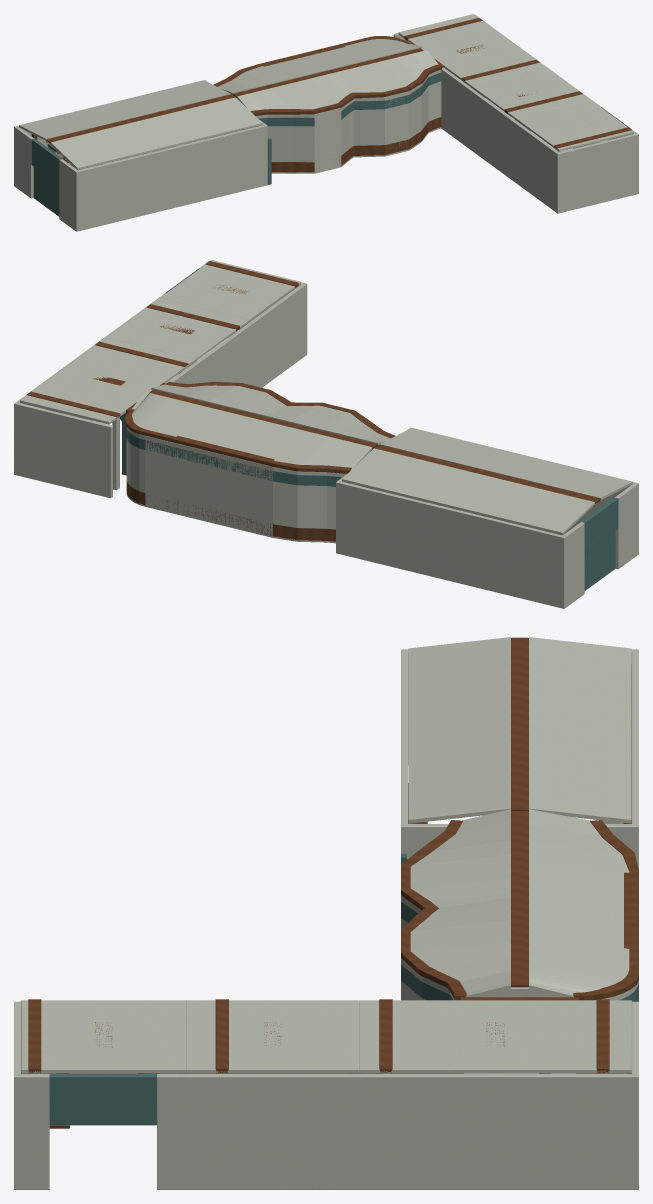
The model's file is D05_forward_welcome_architecture_008.glb.
The picture shows the model from 3 angles, top to bottom: view 1: azimuth 30°, elevation 25°; view 2: azimuth 150°, elevation 25°; view 3: azimuth 270°, elevation 25°; orthographic projection. The views are drawn at different scales.
Visible parts, largest first — view 1: SUPPORT_south_wall, WAIT_south_sculpted_enclosure, ADMISSION_inner_protected_partition, ADMISSION_ceiling_panel_2, ADMISSION_south_end, ADMISSION_ceiling_panel_0, ADMISSION_ceiling_panel_1, SUPPORT_vault_facet_0, SUPPORT_vault_facet_1, WAIT_fitted_vault_north_3, SUPPORT_vault_facet_2, WAIT_south_warm_dado (+25 smaller); view 2: SUPPORT_north_wall, WAIT_north_sculpted_enclosure, ADMISSION_north_end, ADMISSION_ceiling_panel_2, ADMISSION_inner_protected_partition, WAIT_fitted_vault_north_3, ADMISSION_ceiling_panel_1, ADMISSION_ceiling_panel_0, SUPPORT_vault_facet_6, SUPPORT_vault_facet_5, SUPPORT_vault_facet_4, SUPPORT_vault_facet_0 (+20 smaller); view 3: ADMISSION_outer_aft, ADMISSION_ceiling_panel_2, ADMISSION_ceiling_panel_1, ADMISSION_ceiling_panel_0, WAIT_fitted_vault_north_3, SUPPORT_vault_facet_0, SUPPORT_vault_facet_1, SUPPORT_vault_facet_6, SUPPORT_vault_facet_5, ADMISSION_core_interface_head, SUPPORT_vault_facet_2, SUPPORT_vault_facet_4 (+26 smaller).
Part boxes in pixels (x1,y1,x2,y2): SUPPORT_south_wall: (74, 125, 264, 231); WAIT_south_sculpted_enclosure: (255, 70, 441, 173); ADMISSION_inner_protected_partition: (441, 67, 560, 213); ADMISSION_ceiling_panel_2: (398, 14, 544, 86); ADMISSION_south_end: (556, 133, 638, 212); ADMISSION_ceiling_panel_0: (515, 100, 633, 151); ADMISSION_ceiling_panel_1: (470, 66, 589, 119); SUPPORT_vault_facet_0: (68, 114, 262, 169); SUPPORT_vault_facet_1: (58, 104, 252, 160); WAIT_fitted_vault_north_3: (261, 40, 393, 80); SUPPORT_vault_facet_2: (50, 97, 242, 150); WAIT_south_warm_dado: (271, 117, 441, 172); SUPPORT_north_wall: (338, 481, 566, 608); WAIT_north_sculpted_enclosure: (126, 427, 346, 543); ADMISSION_north_end: (14, 403, 112, 498); ADMISSION_ceiling_panel_2: (20, 337, 194, 424); ADMISSION_inner_protected_partition: (166, 283, 307, 387); WAIT_fitted_vault_north_3: (149, 400, 306, 461); ADMISSION_ceiling_panel_1: (106, 298, 248, 361); ADMISSION_ceiling_panel_0: (160, 260, 300, 321); SUPPORT_vault_facet_6: (342, 468, 574, 535); SUPPORT_vault_facet_5: (354, 457, 585, 523); SUPPORT_vault_facet_4: (365, 448, 594, 512); SUPPORT_vault_facet_0: (401, 428, 632, 489); ADMISSION_outer_aft: (157, 1074, 638, 1189); ADMISSION_ceiling_panel_2: (359, 1000, 631, 1073); ADMISSION_ceiling_panel_1: (186, 1000, 359, 1073); ADMISSION_ceiling_panel_0: (21, 1000, 186, 1073); WAIT_fitted_vault_north_3: (529, 859, 629, 969); SUPPORT_vault_facet_0: (408, 644, 445, 823); SUPPORT_vault_facet_1: (445, 640, 482, 819); SUPPORT_vault_facet_6: (594, 644, 631, 823); SUPPORT_vault_facet_5: (557, 640, 594, 819); ADMISSION_core_interface_head: (49, 1074, 156, 1125); SUPPORT_vault_facet_2: (482, 637, 510, 815); SUPPORT_vault_facet_4: (529, 637, 556, 814).
Size of the model in its own units: 34 by 4.8 by 21.
10 materials, 8 textured.
